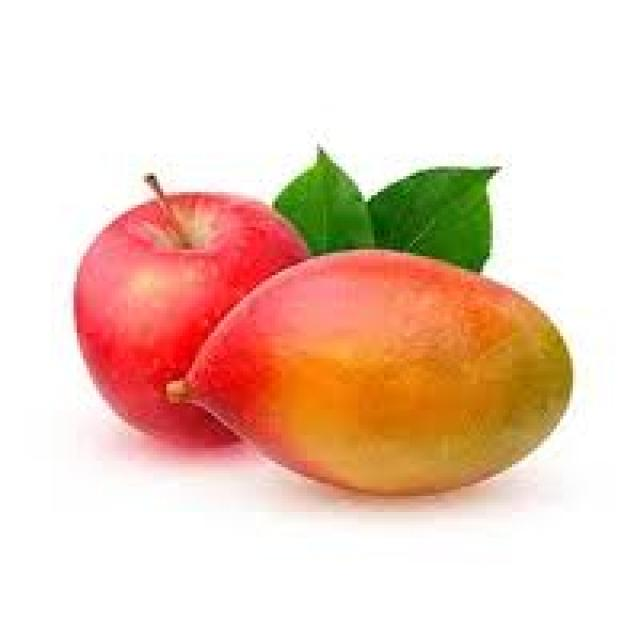Apple: (77, 191, 313, 447)
Mango: (173, 250, 572, 492)
